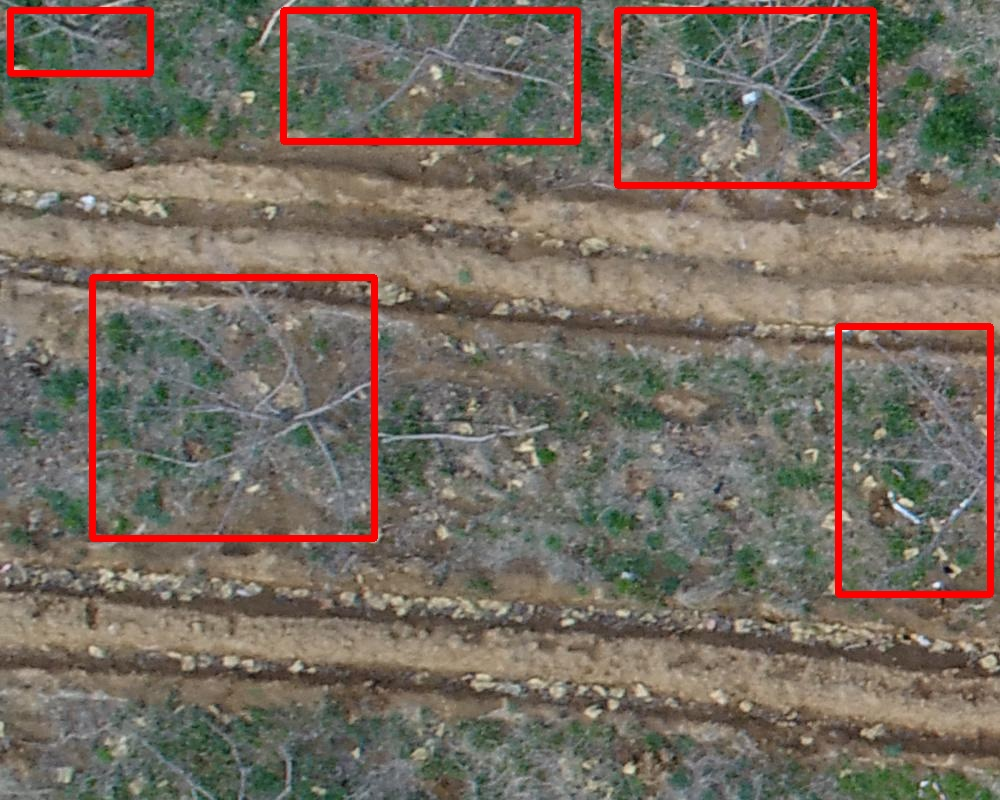apple: (92, 277, 374, 538), (617, 10, 873, 185), (838, 326, 990, 594), (283, 10, 577, 141), (10, 10, 150, 73)
